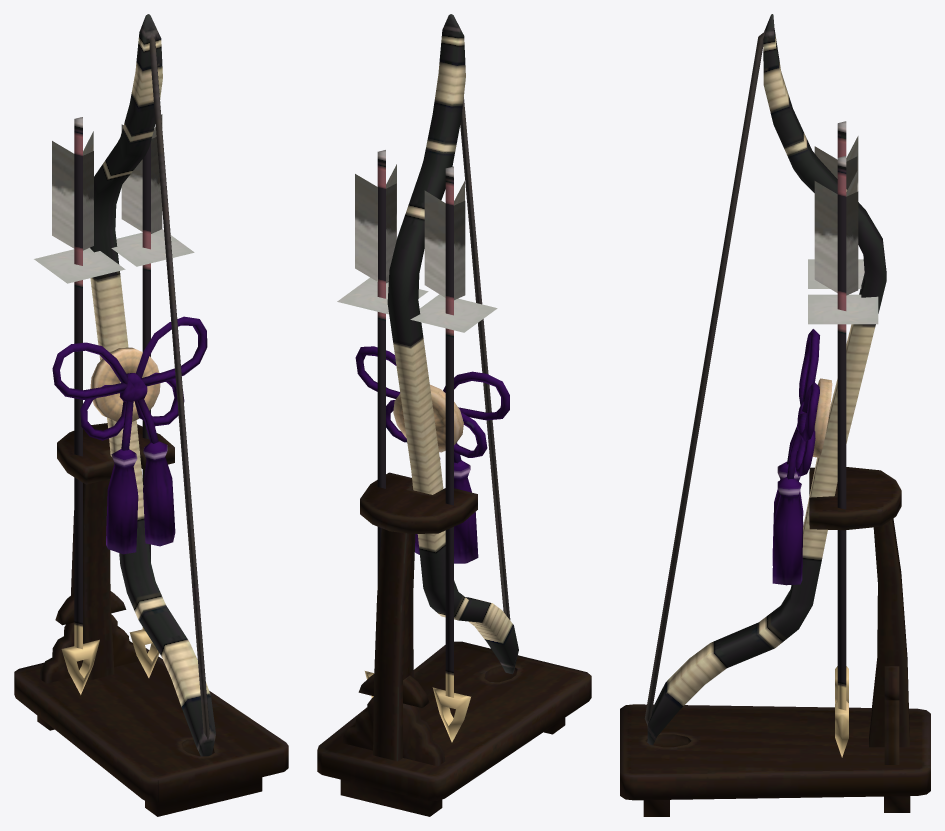
The model's file is weapon-bow.glb.
The picture shows the model from 3 angles, left to right: view 1: azimuth 30°, elevation 25°; view 2: azimuth 150°, elevation 25°; view 3: azimuth 270°, elevation 25°; orthographic projection. The views are drawn at different scales.
Visible parts, largest first — view 1: Scene; view 2: Scene; view 3: Scene.
Part boxes in pixels (box(x1,y1,x2,y2)): Scene: box(14, 14, 288, 816); Scene: box(317, 14, 591, 816); Scene: box(620, 14, 930, 816).
Size of the model in its own units: 3.88 by 17.84 by 6.48.
Materials: 1 (1 with a texture image).
